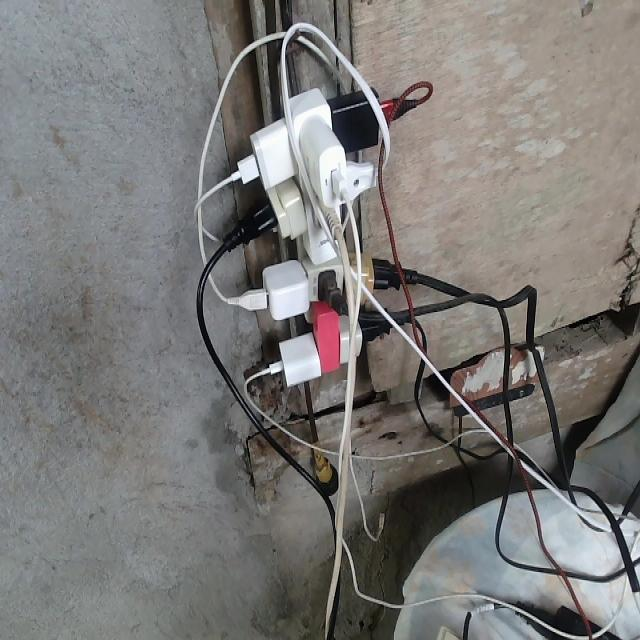-: (223, 80, 434, 384)
